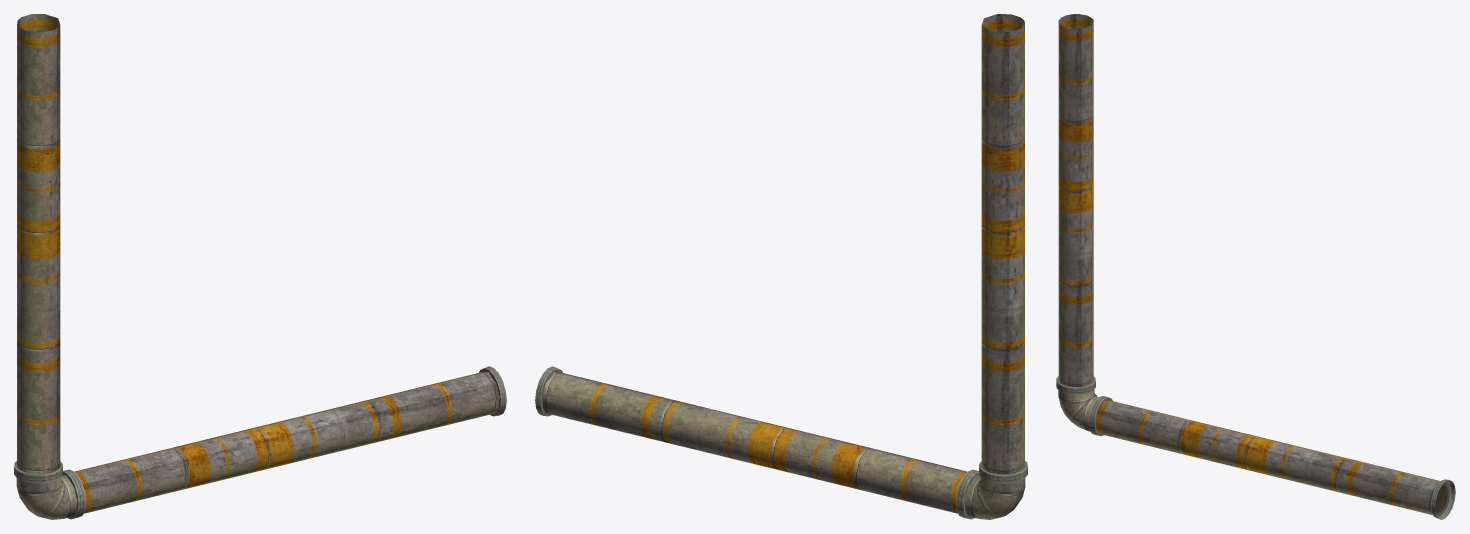
The model's file is EQP_PIPES002.FBX.
The picture shows the model from 3 angles, left to right: view 1: azimuth 30°, elevation 25°; view 2: azimuth 150°, elevation 25°; view 3: azimuth 330°, elevation 25°; orthographic projection. The views are drawn at different scales.
Parts seen in each view (by area): view 1: Cylinder099, Cylinder098, PIPES002; view 2: Cylinder099, Cylinder098, PIPES002; view 3: Cylinder099, Cylinder098, PIPES002.
Part boxes in pixels (box(x1,y1,x2,y2)): Cylinder099: box(17, 14, 60, 474); Cylinder098: box(75, 372, 499, 513); PIPES002: box(14, 366, 506, 519); Cylinder099: box(981, 14, 1024, 474); Cylinder098: box(542, 372, 967, 513); PIPES002: box(535, 366, 1027, 519); Cylinder099: box(1058, 14, 1093, 387); Cylinder098: box(1096, 400, 1449, 515); PIPES002: box(1056, 376, 1455, 519).
Size of the model in its own units: 700 by 704 by 64.49.
1 material, 1 textured.
